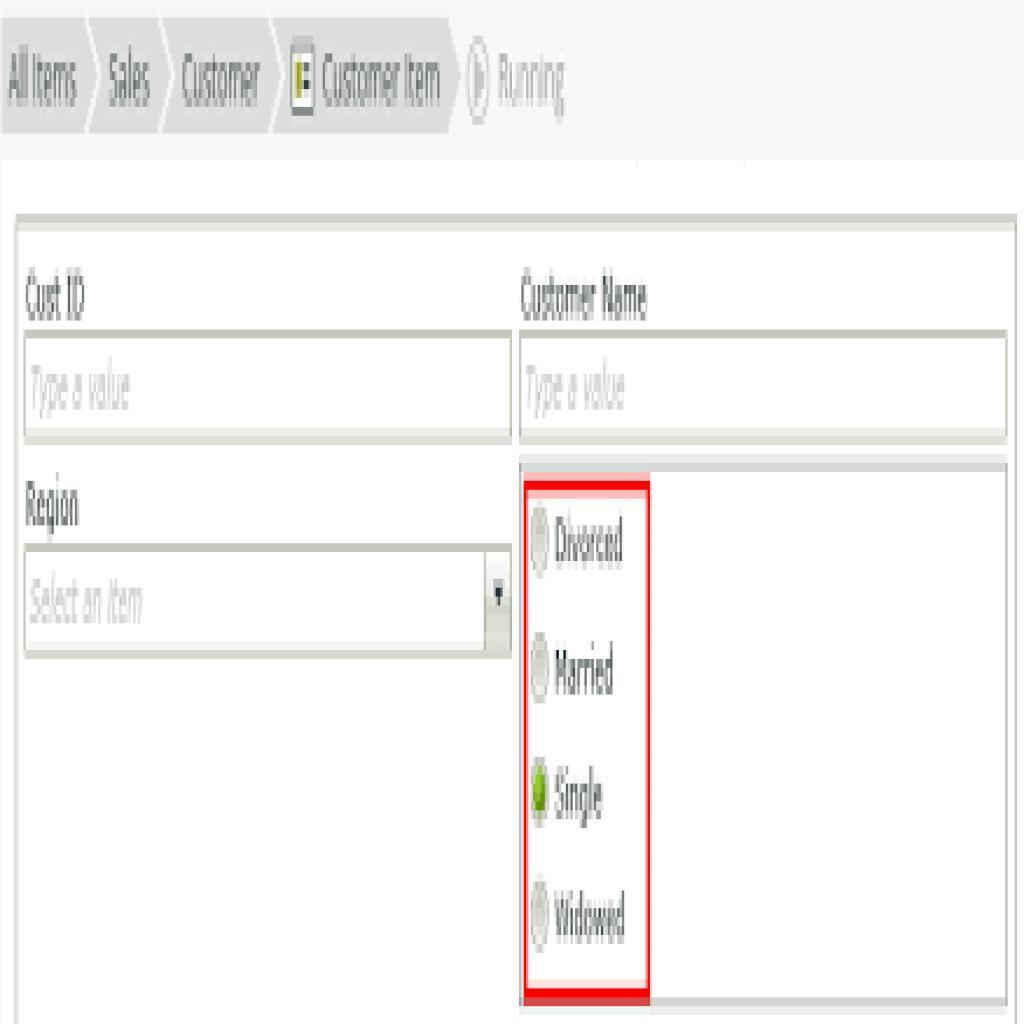dropdown: (24, 547, 513, 657)
input: (26, 335, 512, 440), (521, 335, 1009, 439)
radio: (528, 754, 556, 830), (529, 633, 552, 708), (530, 876, 551, 953), (531, 502, 550, 583)
